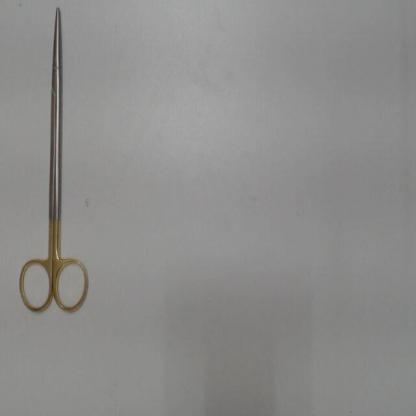7 Metzenbaum Scissors: (16, 5, 93, 323)
